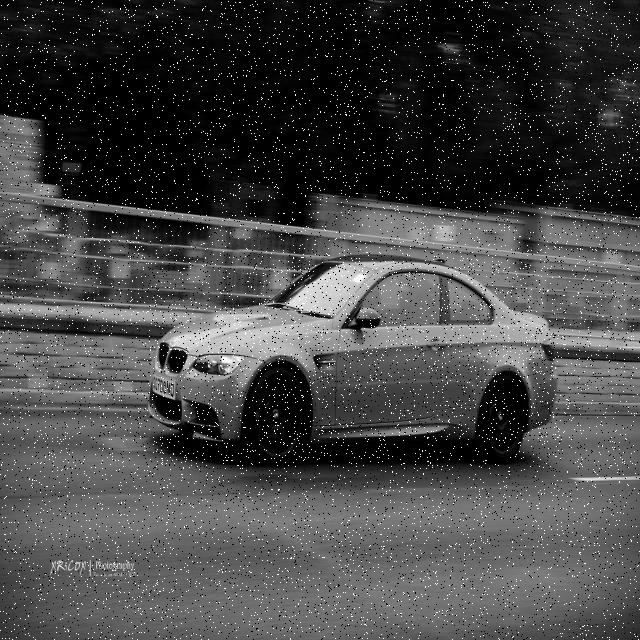Sedan: (146, 254, 560, 466)
